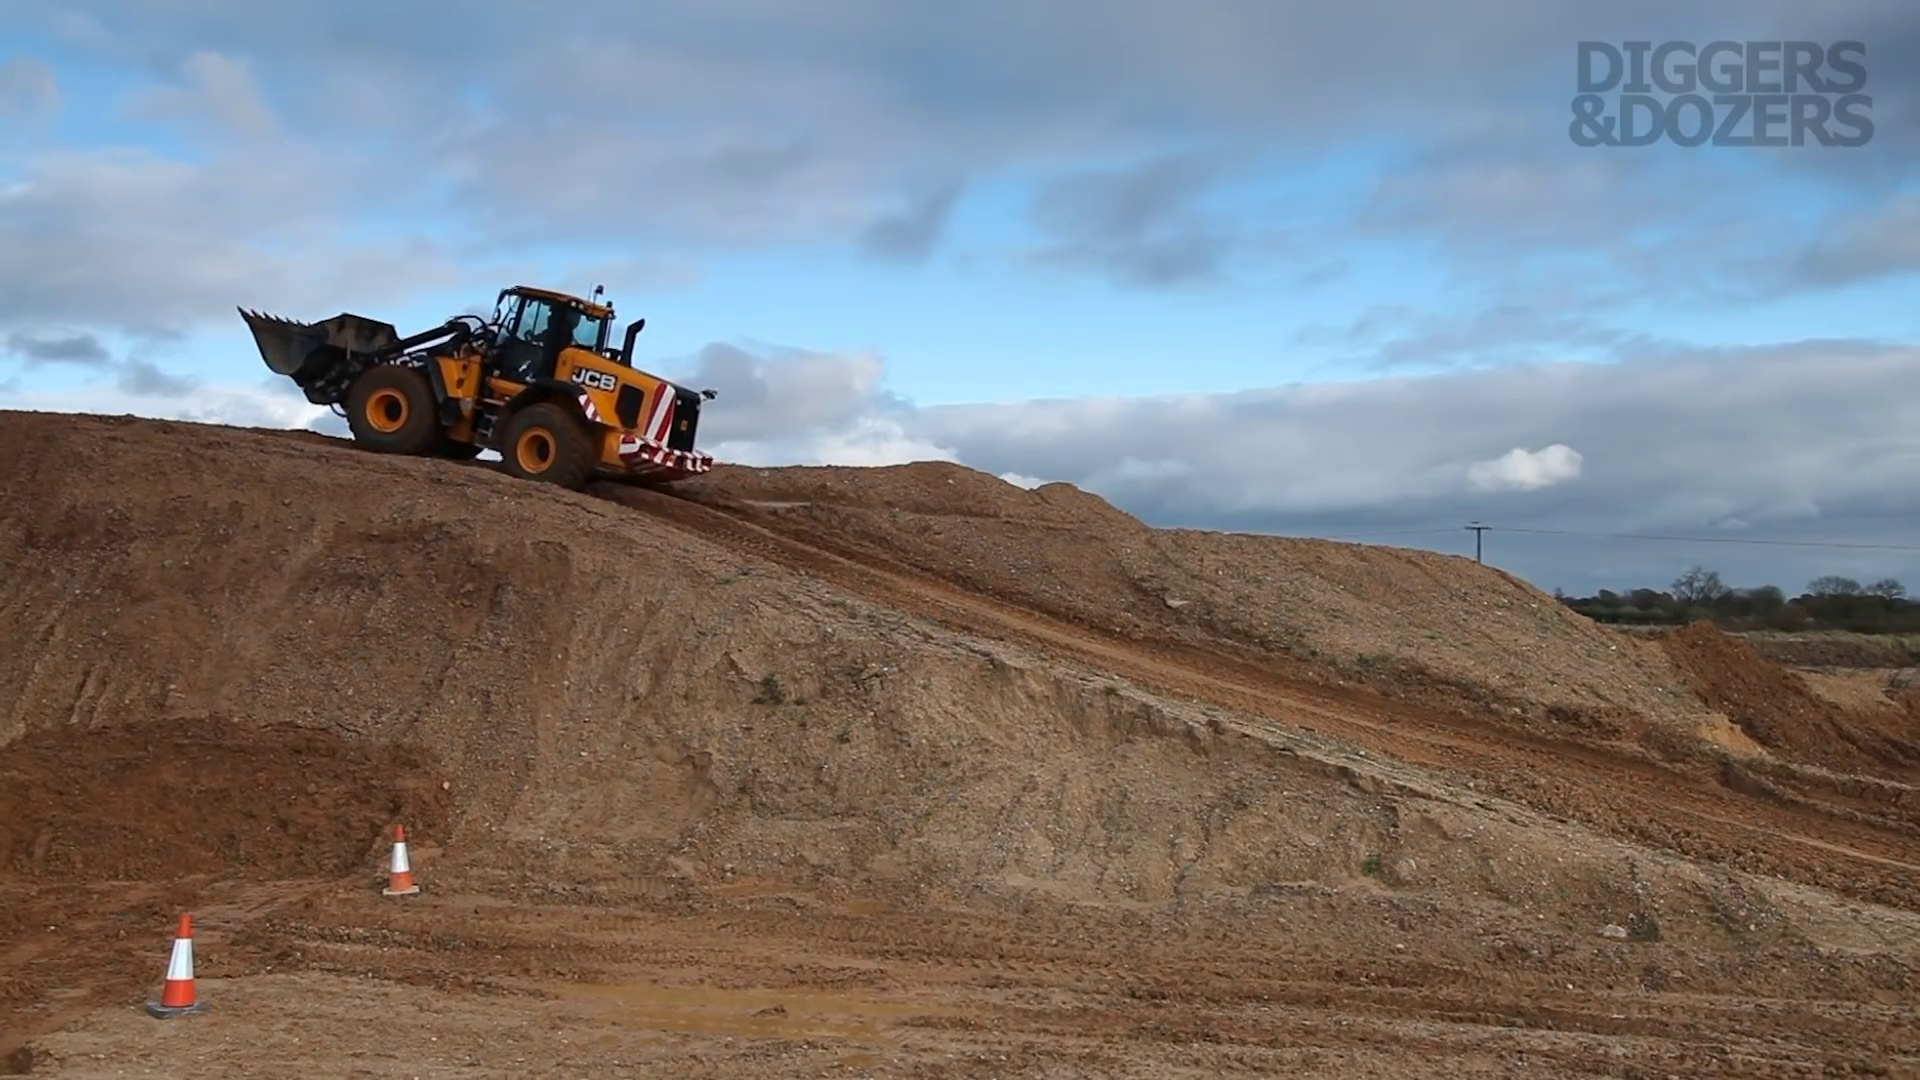wheel loader: (237, 285, 715, 483)
